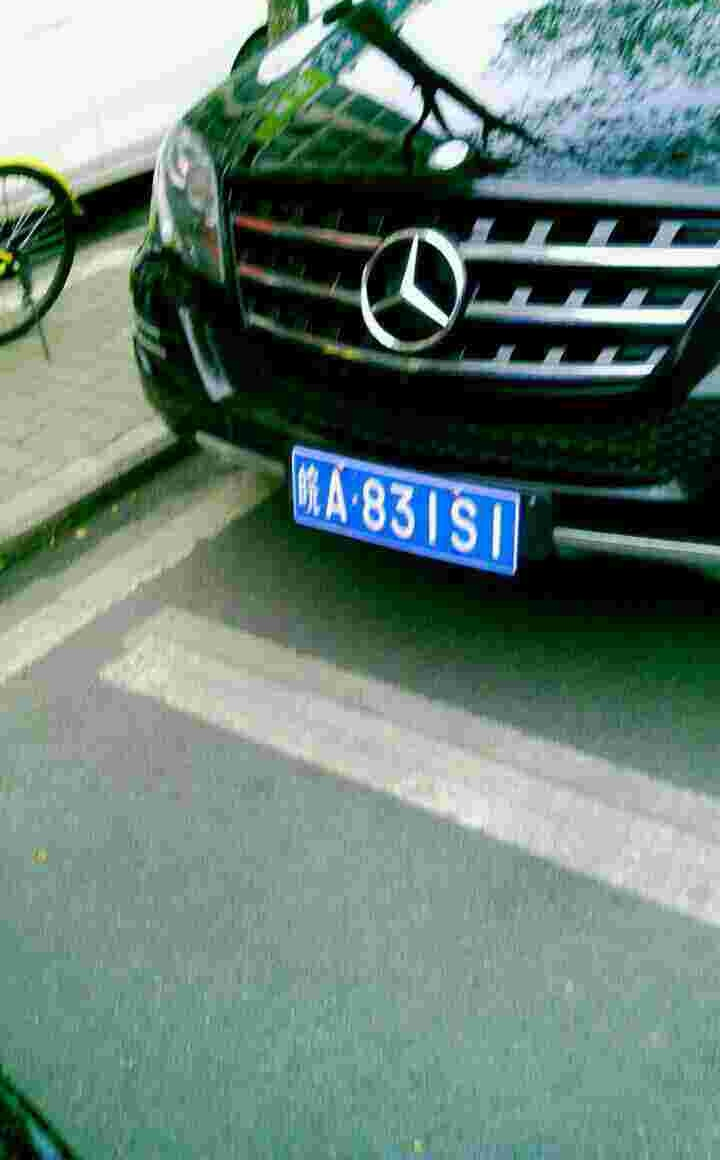license_plate: (284, 449, 541, 573)
